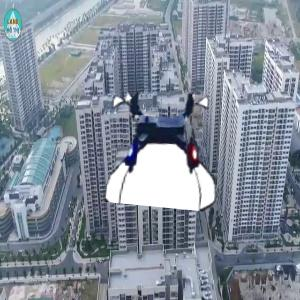drone: (101, 85, 225, 209)
